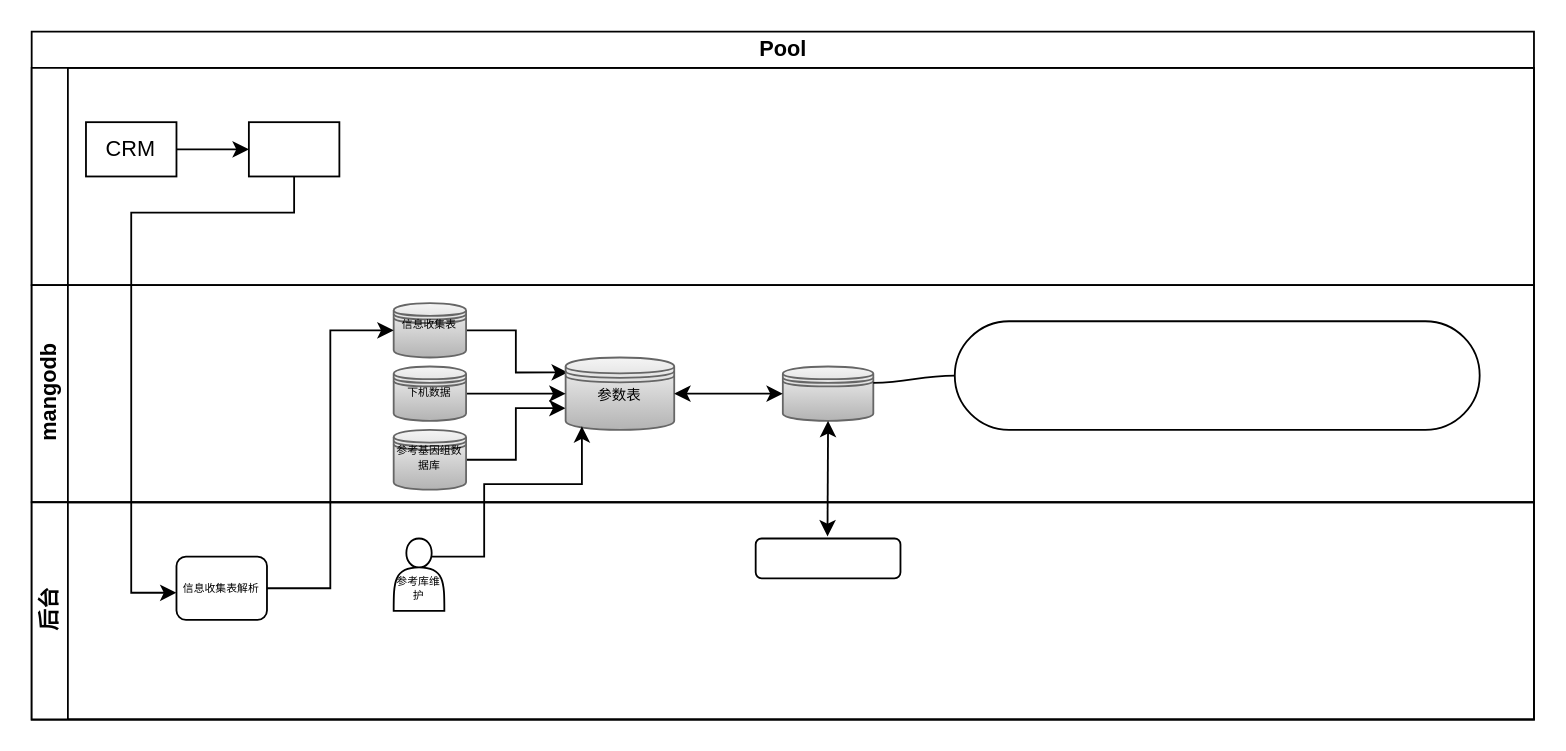
This 1566x751 diagram has some shape labels left out. Here are the shapes that lost their labels. From the top down, the box of each, then its label:
(247, 120, 339, 176): 信息收集表文件
(30, 66, 1534, 285): 前端
(781, 365, 873, 421): job表
(953, 319, 1480, 430): 主流程 结果完整性检测 get report 数据量，Q20，Q30，rRNA，mappping率，外显子比率，等检测
(754, 537, 900, 578): 任务执行（投递）
